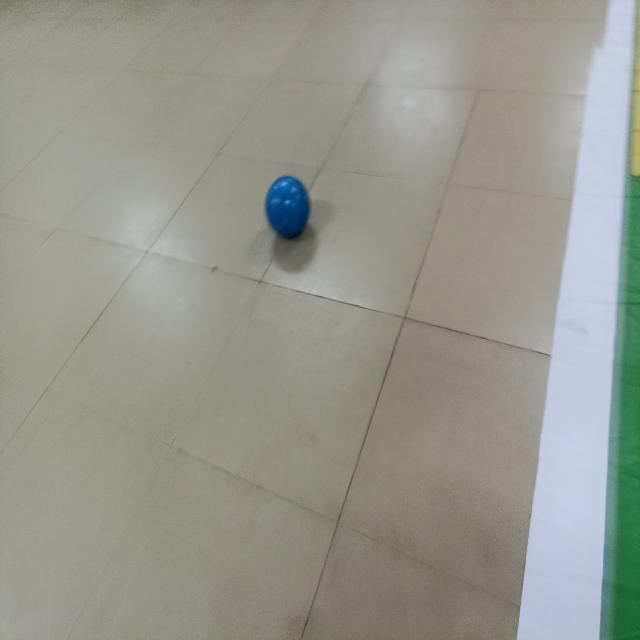blue_ball: (266, 170, 312, 244)
